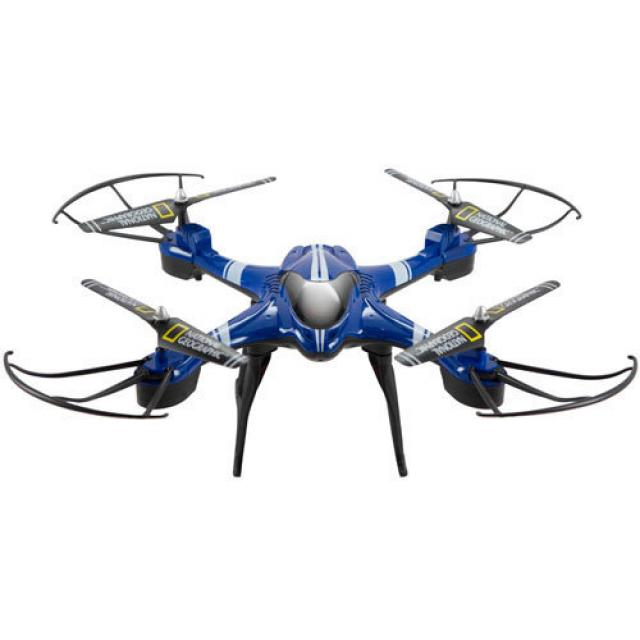drones: (7, 158, 640, 484)
